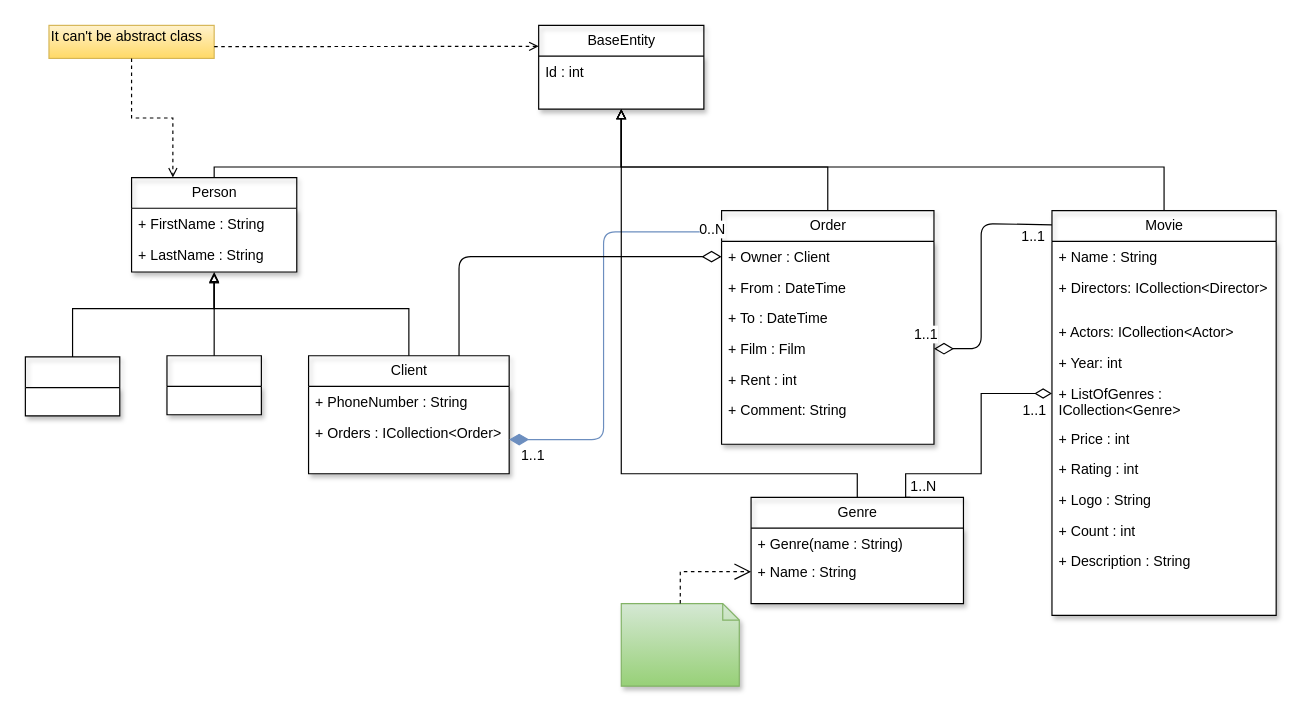
This 1304x715 diagram has some shape labels left out. The centre of each missing label's shape, as x and y in pixels:
Actor: (x=214, y=386)
Director: (x=73, y=387)
With private set. Use set in Genre constructor.: (x=680, y=646)
